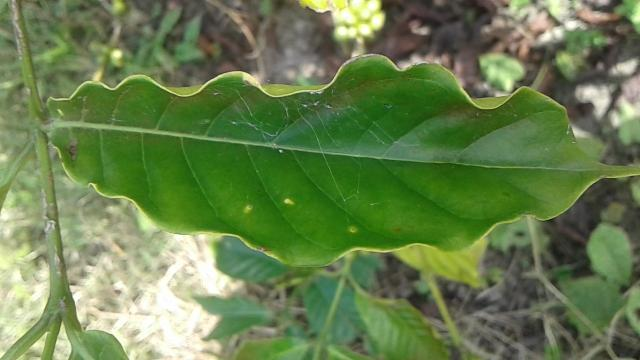rust_level_1: (46, 53, 639, 264)
